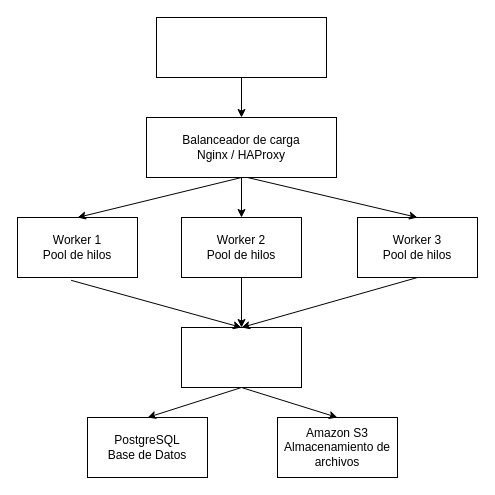
The diagram is 495 pixels wide and 495 high, and some of its shapes have lost their labels. Here are the shapes that lost their labels. From the top down, the centre of each, then its label:
point 241,47: Cliente móviles / web
point 241,357: RabbitMQ Cola de mensajes
